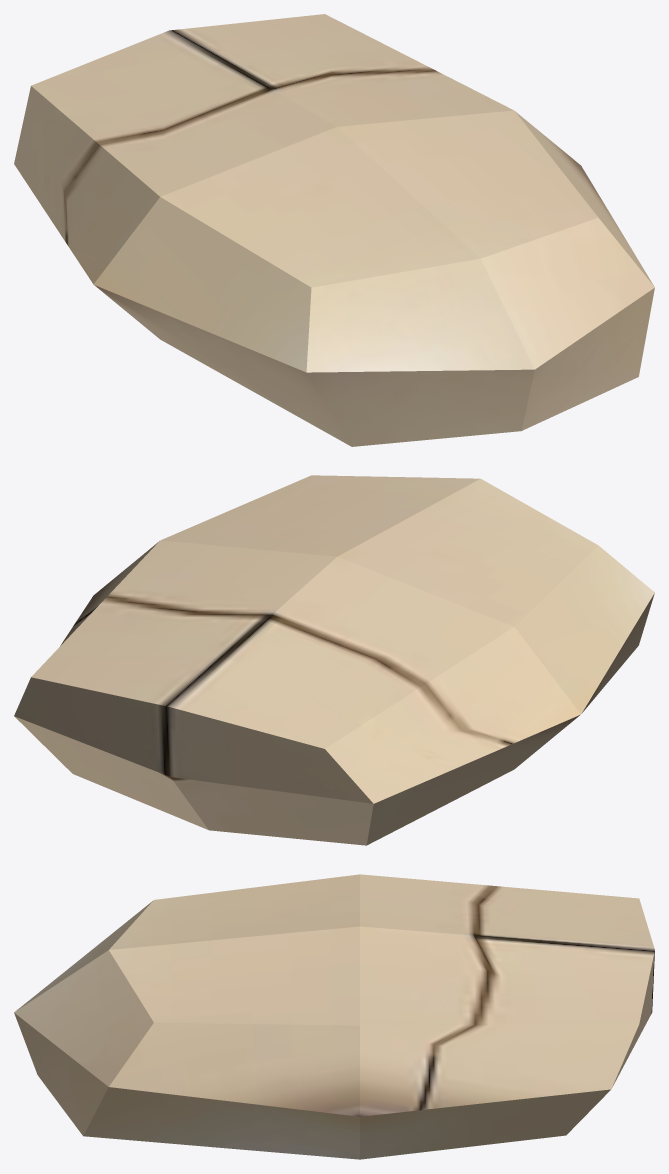
File: mouse.fbx
3 views of the same model, one above another, from view 1: azimuth 30°, elevation 25°; view 2: azimuth 150°, elevation 25°; view 3: azimuth 270°, elevation 25° (orthographic). The views are drawn at different scales.
Parts seen in each view (by area): view 1: Mouse; view 2: Mouse; view 3: Mouse.
Part boxes in pixels (x1,y1,x2,y2): Mouse: [14, 14, 654, 446]; Mouse: [14, 475, 654, 845]; Mouse: [14, 874, 654, 1159].
Size of the model in its own units: 27.2 by 10.47 by 35.34.
